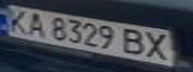2: (81, 19, 100, 49)
3: (63, 17, 84, 46)
8: (45, 15, 69, 43)
9: (96, 22, 121, 52)
A: (21, 10, 51, 38)
B: (118, 26, 151, 56)
K: (0, 7, 33, 34)
X: (139, 29, 175, 62)
